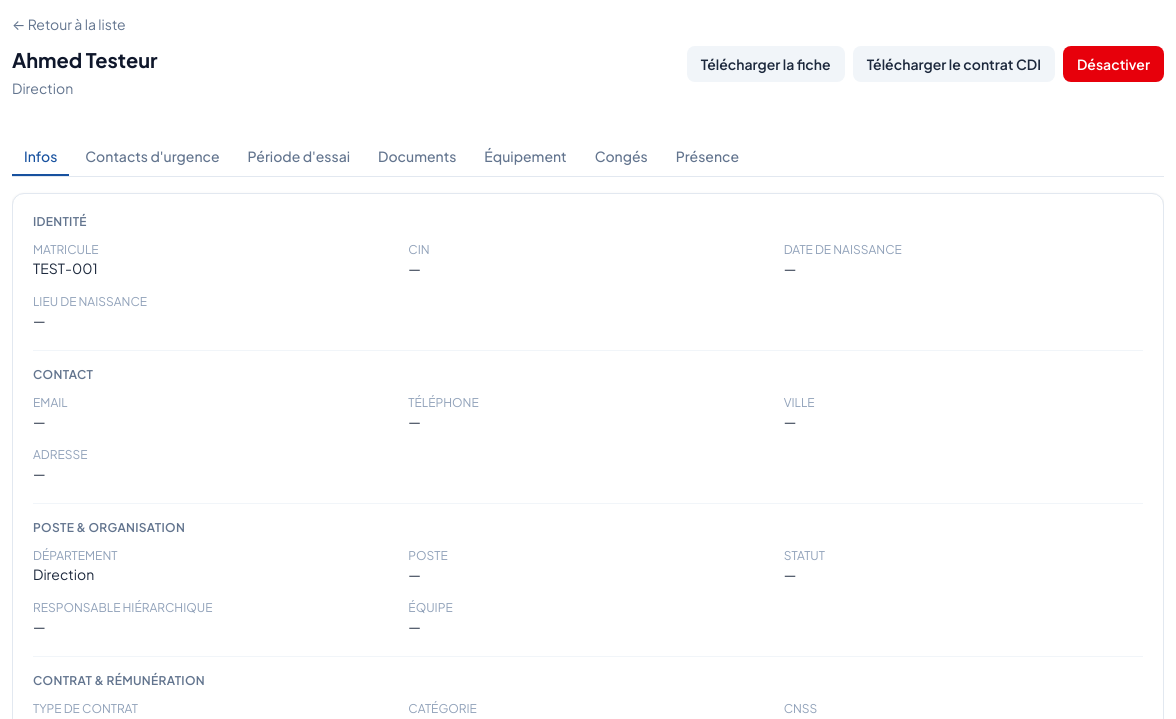
it: EmployeeDetailPage › shows the monthly summary on the Présence tab
This screenshot has width=1176, height=719.
Check: the heading "Ahmed Testeur" is shown, box [12, 46, 158, 74]
Click the button "Présence" at (707, 157), box [664, 138, 751, 176]
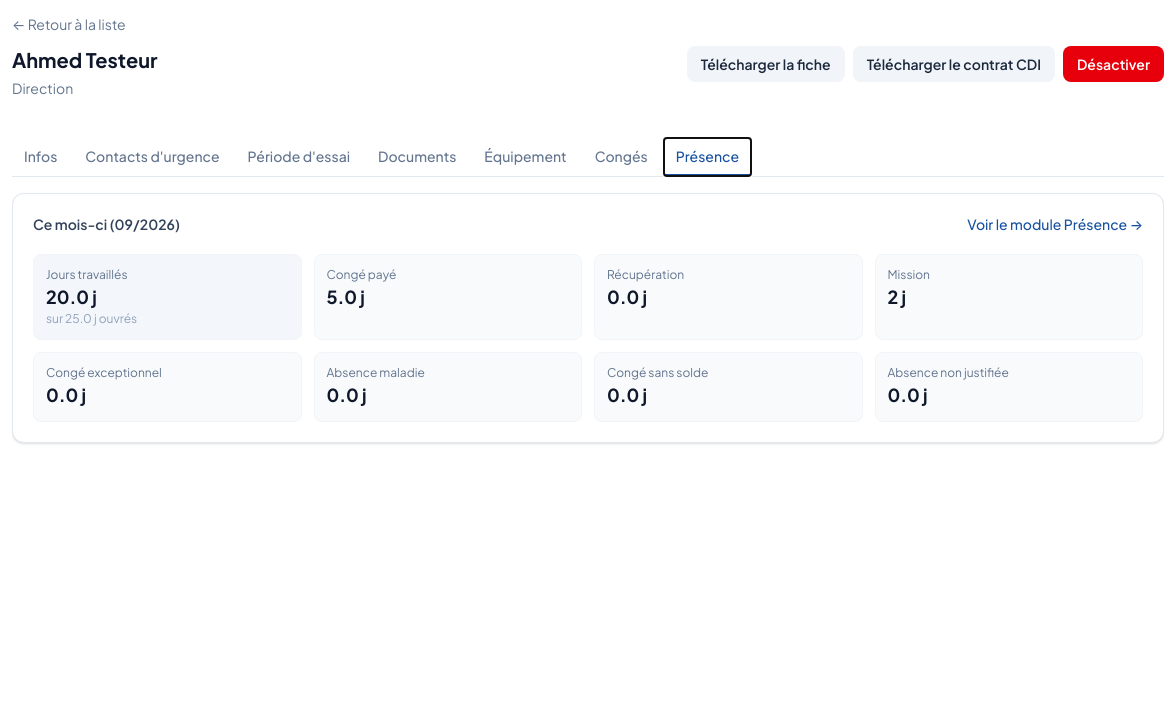
Check: the text "20.0 j" is shown, box [46, 285, 97, 308]
Check: the text "sur 25.0 j ouvrés" is shown, box [46, 311, 137, 326]
Check: the text "2 j" is shown, box [888, 285, 906, 308]
